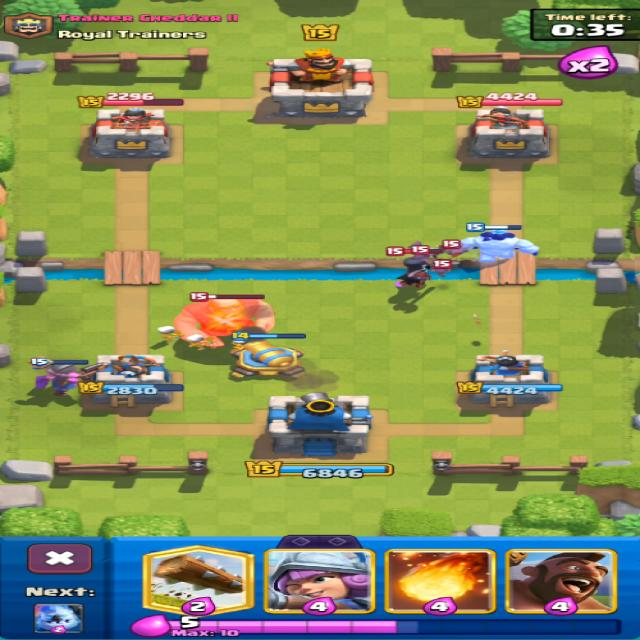Enemy-Bat: (440, 239, 466, 256), (433, 259, 451, 274)
Enemy-Giant: (175, 298, 274, 347)
Enemy-KingTower: (269, 49, 372, 117)
Enemy-NightWitch: (396, 245, 430, 288)
Enemy-PrincessTower: (461, 106, 549, 164), (91, 107, 169, 158)
Player-Cannon: (234, 339, 302, 374)
Player-IceGolem: (458, 230, 538, 262)
Player-KingTower-Activated: (268, 392, 371, 457)
Player-Musketeer-Evo: (36, 363, 106, 395)
Player-PrincessTower: (457, 350, 562, 407), (81, 354, 182, 407)
Player-Skeleton: (229, 331, 250, 353), (157, 326, 183, 343), (188, 334, 212, 350)
